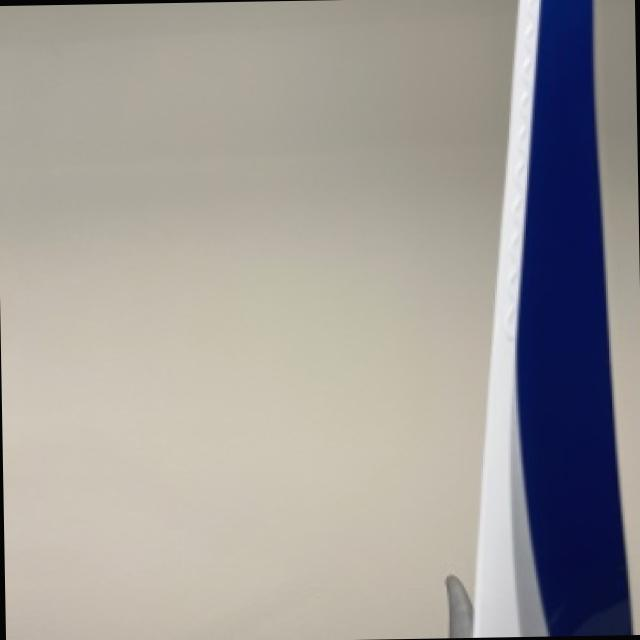healthy: (475, 0, 635, 635)
